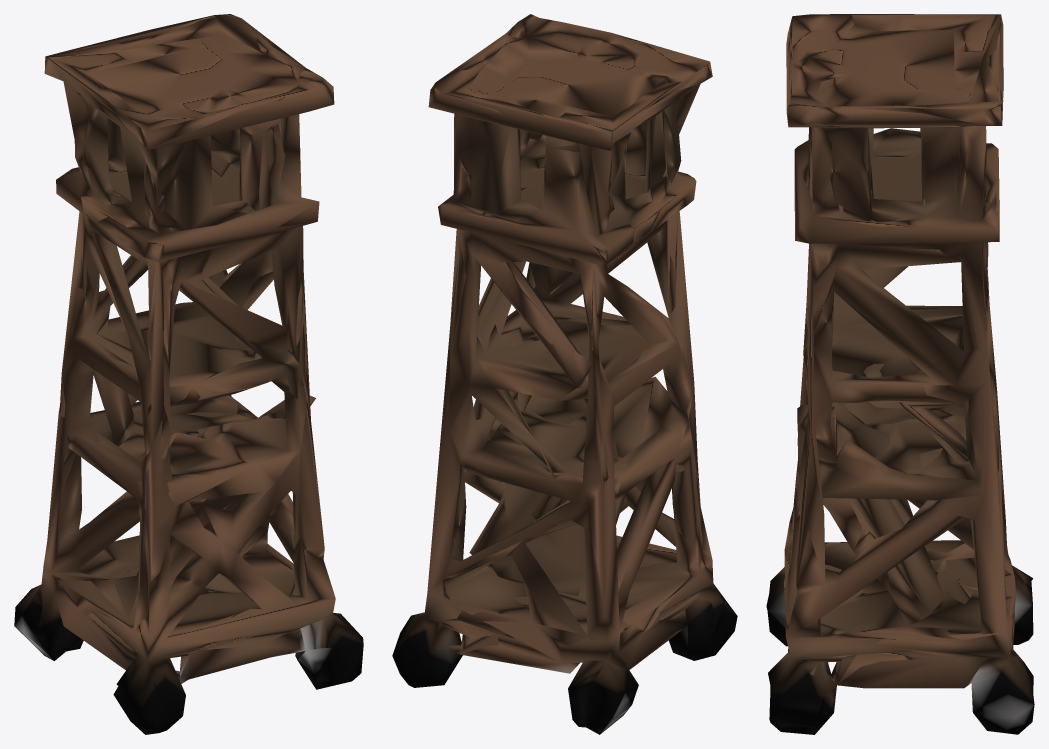
File: gen3d-siege-tower-lod0.glb
3 views of the same model, side by side, from view 1: azimuth 30°, elevation 25°; view 2: azimuth 150°, elevation 25°; view 3: azimuth 270°, elevation 25° (orthographic). The views are drawn at different scales.
Parts seen in each view (by area): view 1: part_0; view 2: part_0; view 3: part_0.
Boxes of the visible parts, x1,y1,x2,y2 form: part_0: (14, 14, 363, 734); part_0: (392, 14, 737, 734); part_0: (766, 14, 1034, 734).
Bounding box in the file's own units: 0.399 × 0.9987 × 0.3861.
